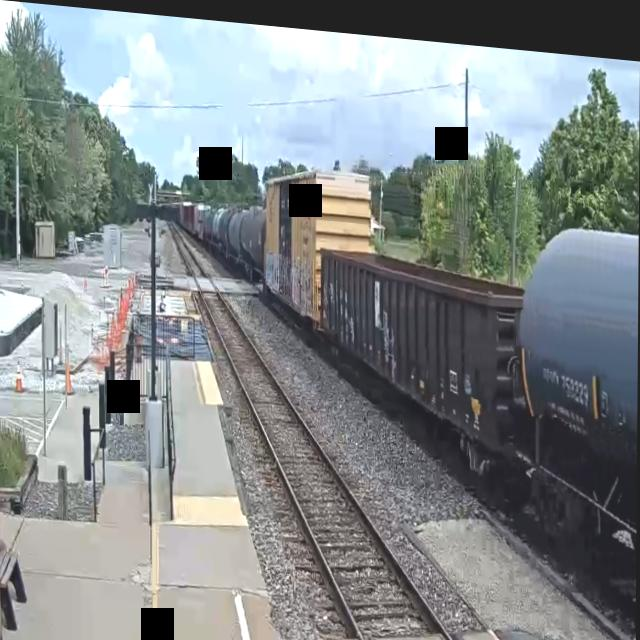boxcar: (259, 152, 374, 337)
gondola: (312, 227, 526, 486)
tank: (501, 187, 639, 597)
